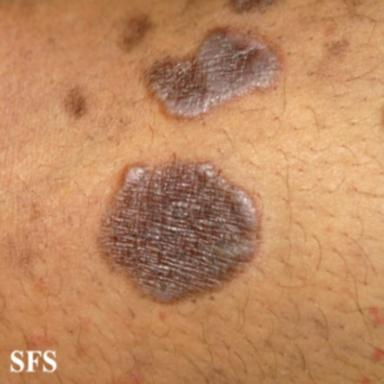lichen: (100, 161, 259, 301), (146, 29, 281, 117), (119, 13, 152, 51), (65, 85, 86, 118), (229, 0, 276, 14)
